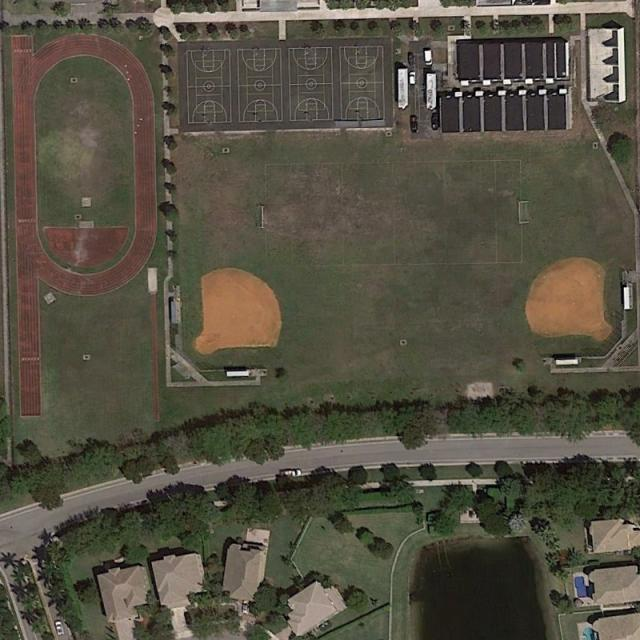vehicle: (398, 68, 408, 109), (426, 74, 436, 108), (281, 468, 302, 477), (51, 621, 65, 634), (240, 598, 249, 615), (410, 116, 418, 133), (424, 50, 432, 66), (432, 114, 438, 129), (410, 72, 416, 85), (409, 54, 414, 66)
